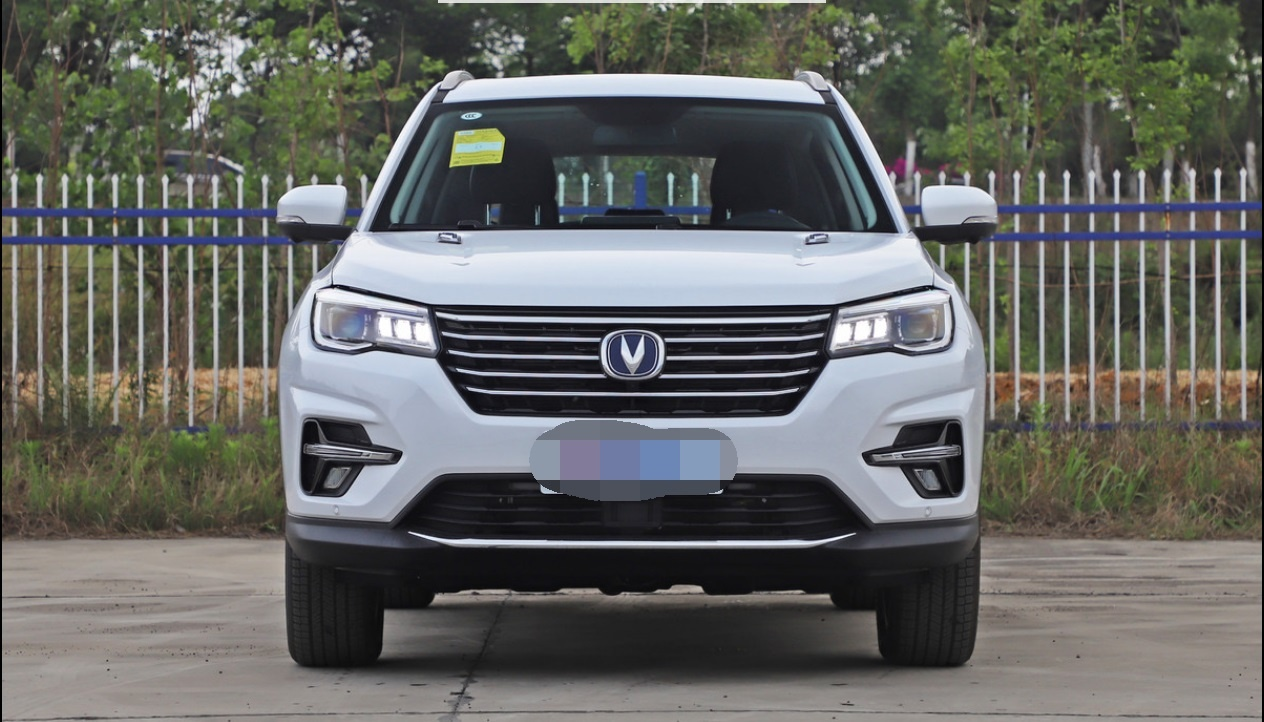SUV: (256, 64, 998, 682)
